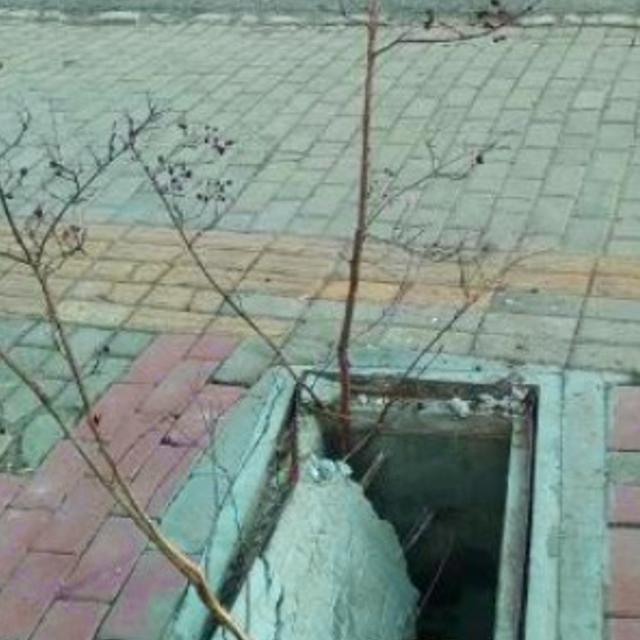broke: (122, 365, 567, 640)
